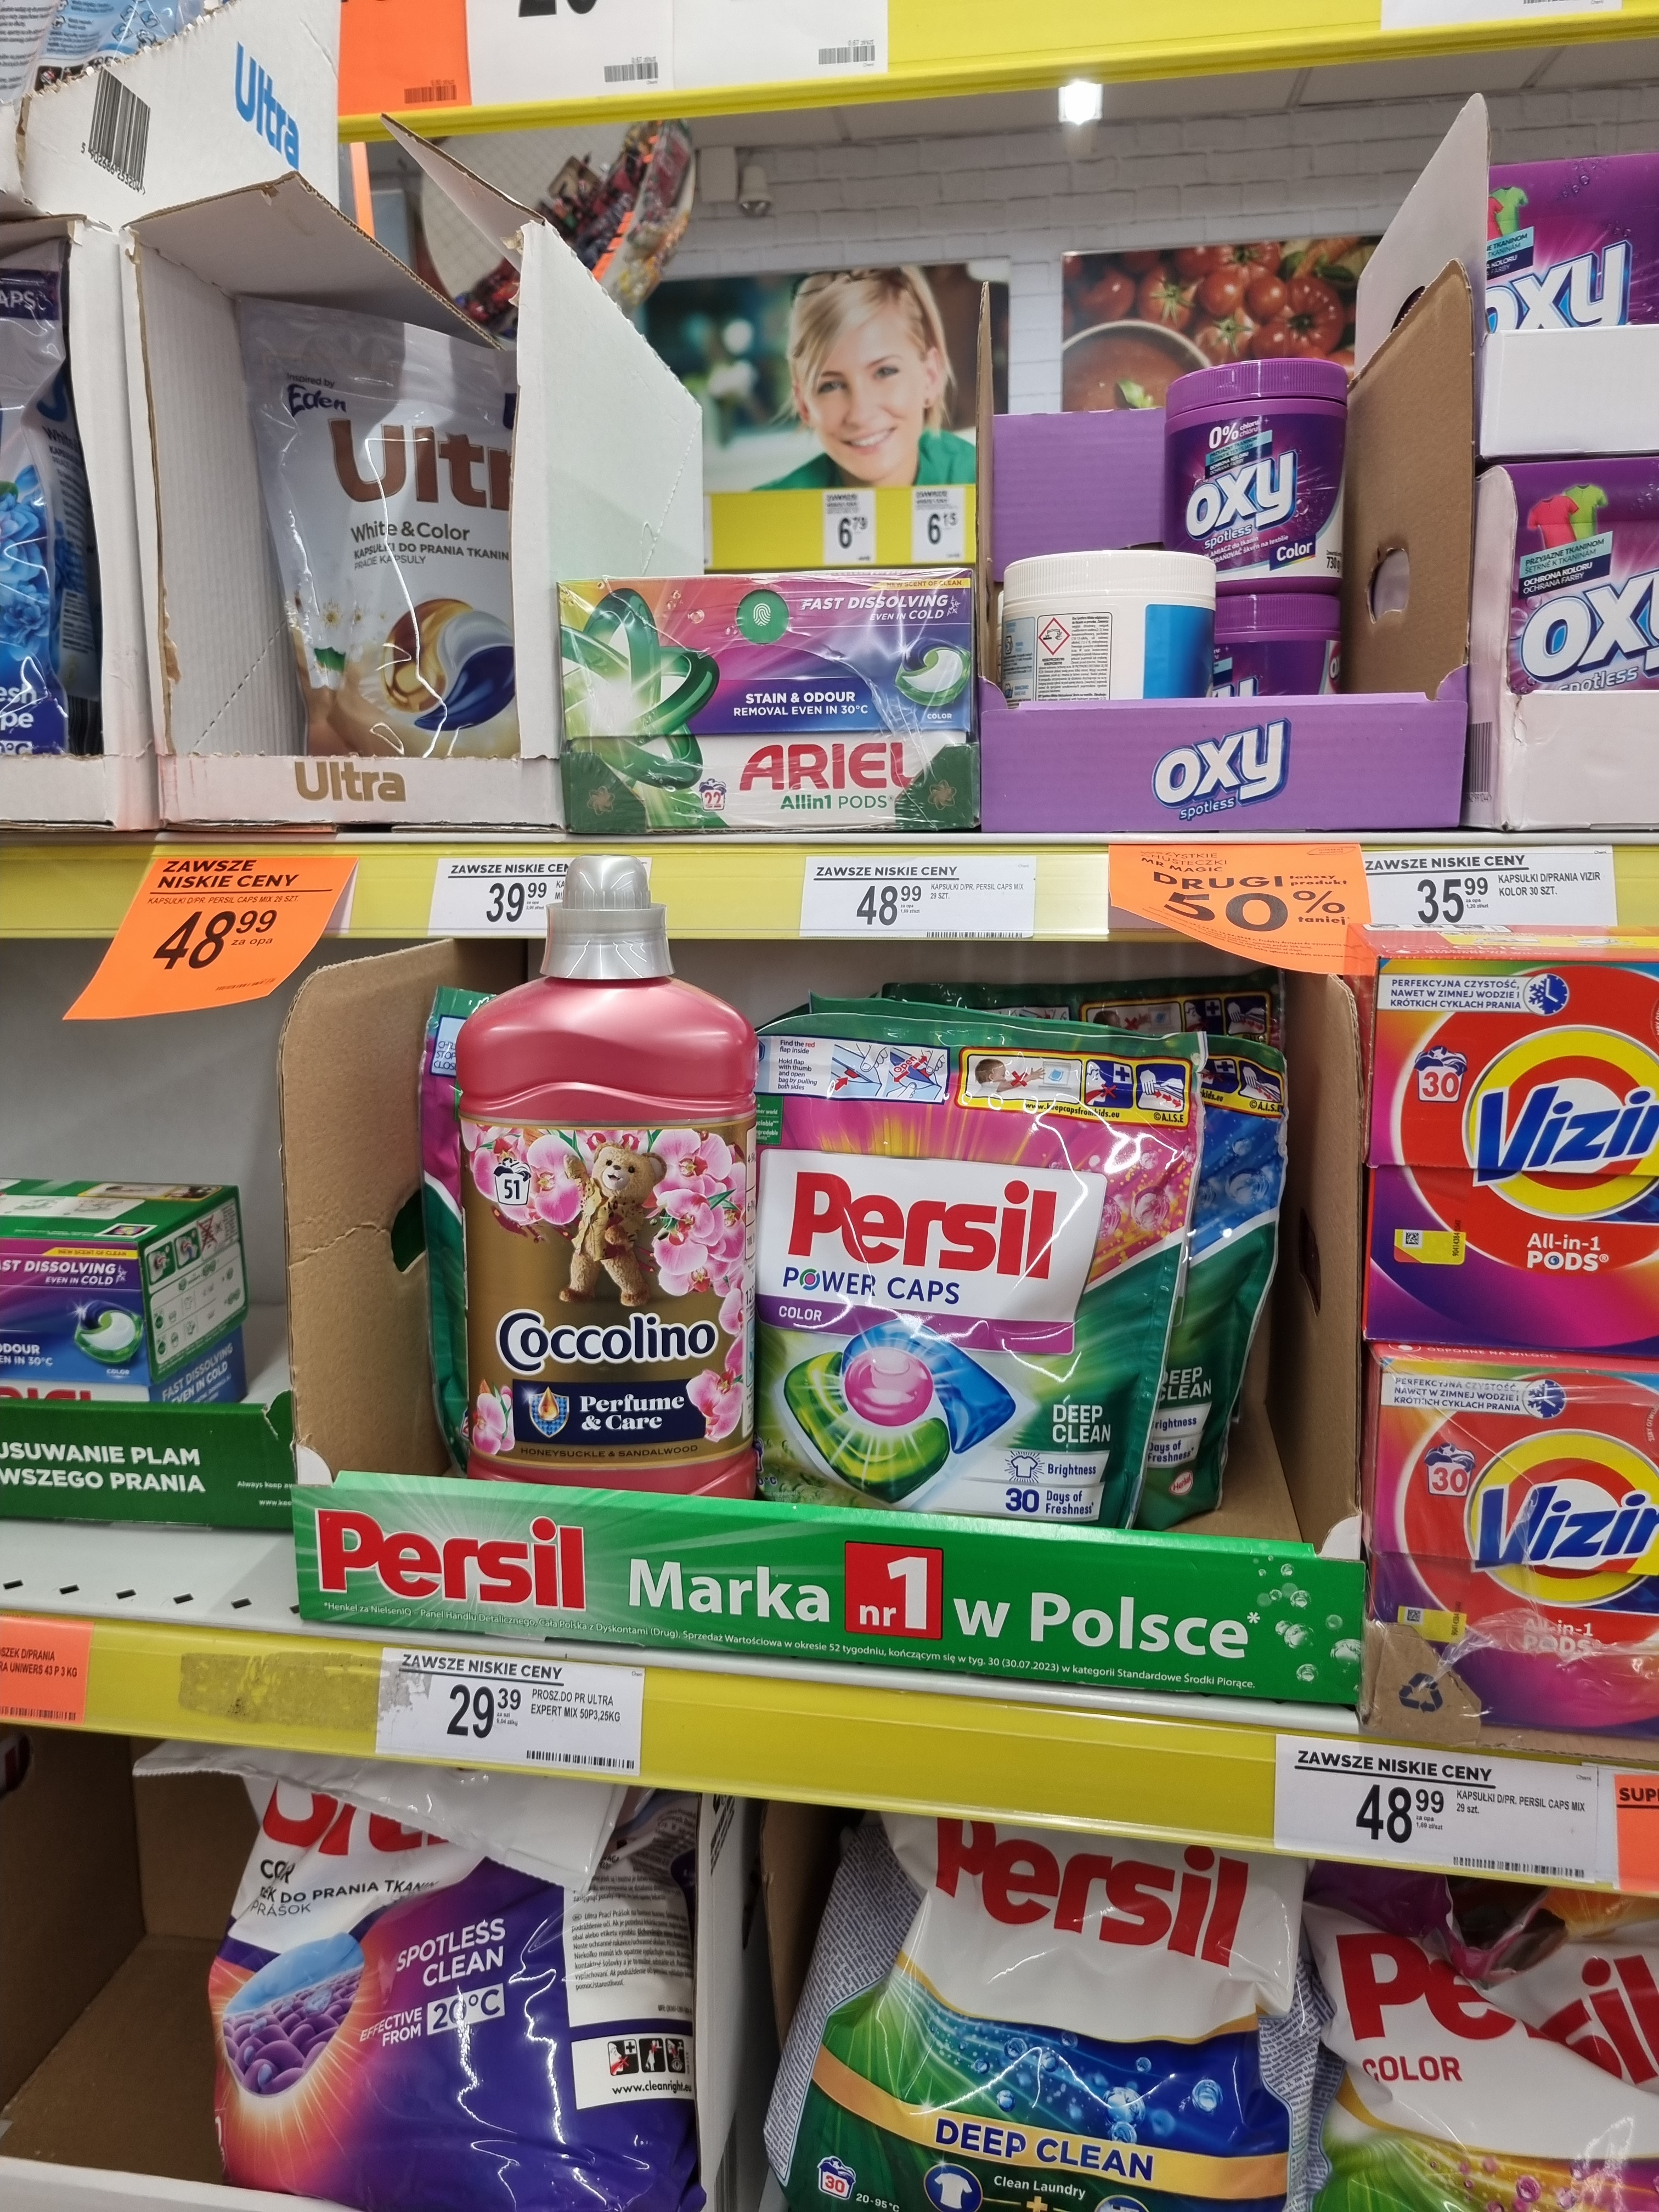cocolino: (455, 988, 751, 1493)
